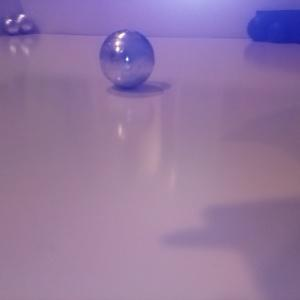alive_ball: (99, 28, 155, 88), (13, 13, 33, 34), (3, 18, 19, 34)
dead_ball: (246, 15, 270, 41), (266, 21, 287, 42)
